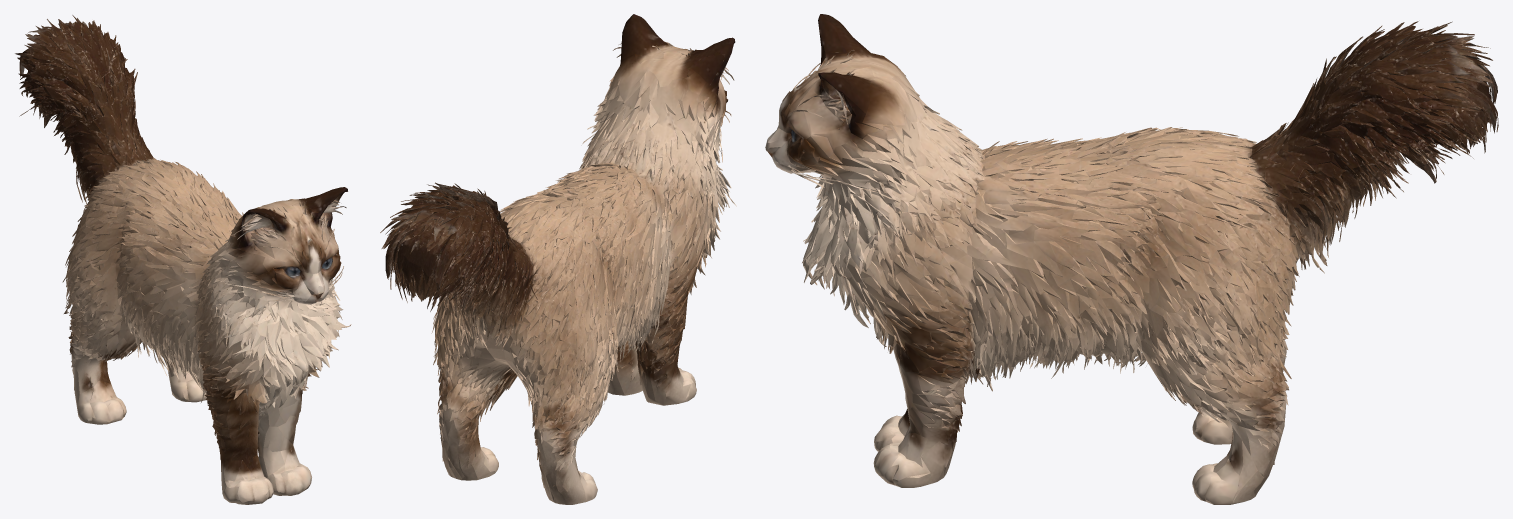
The model's file is mochi-longhair-b.glb.
The picture shows the model from 3 angles, left to right: view 1: azimuth 30°, elevation 25°; view 2: azimuth 150°, elevation 25°; view 3: azimuth 270°, elevation 25°; orthographic projection. The views are drawn at different scales.
Visible parts, largest first — view 1: output_unwrapped; view 2: output_unwrapped; view 3: output_unwrapped.
Part boxes in pixels (bbox=[...]): output_unwrapped: bbox=[15, 15, 351, 504]; output_unwrapped: bbox=[380, 14, 736, 504]; output_unwrapped: bbox=[765, 14, 1498, 504].
Size of the model in its own units: 0.6569 by 1.31 by 2.
1 material, 1 textured.
